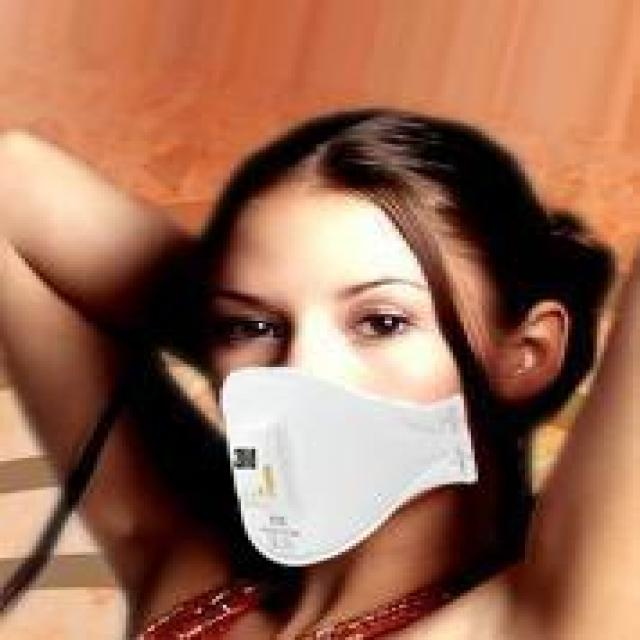mask: (198, 138, 582, 567)
